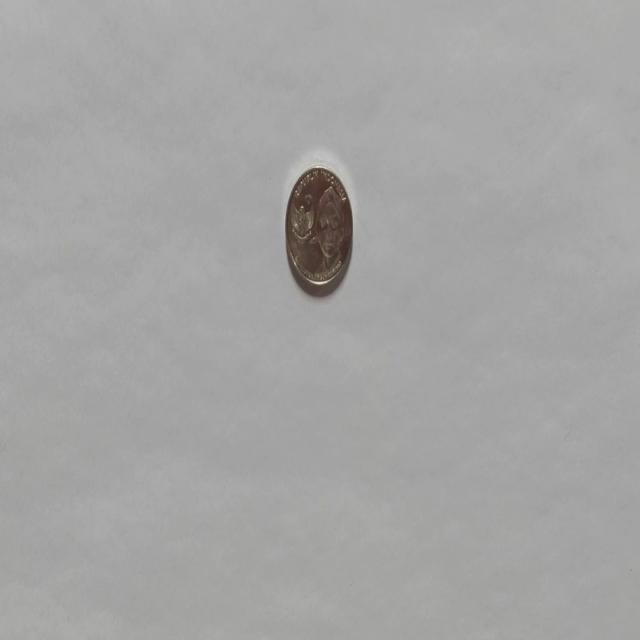dua ratus rupiah: (284, 163, 353, 294)
